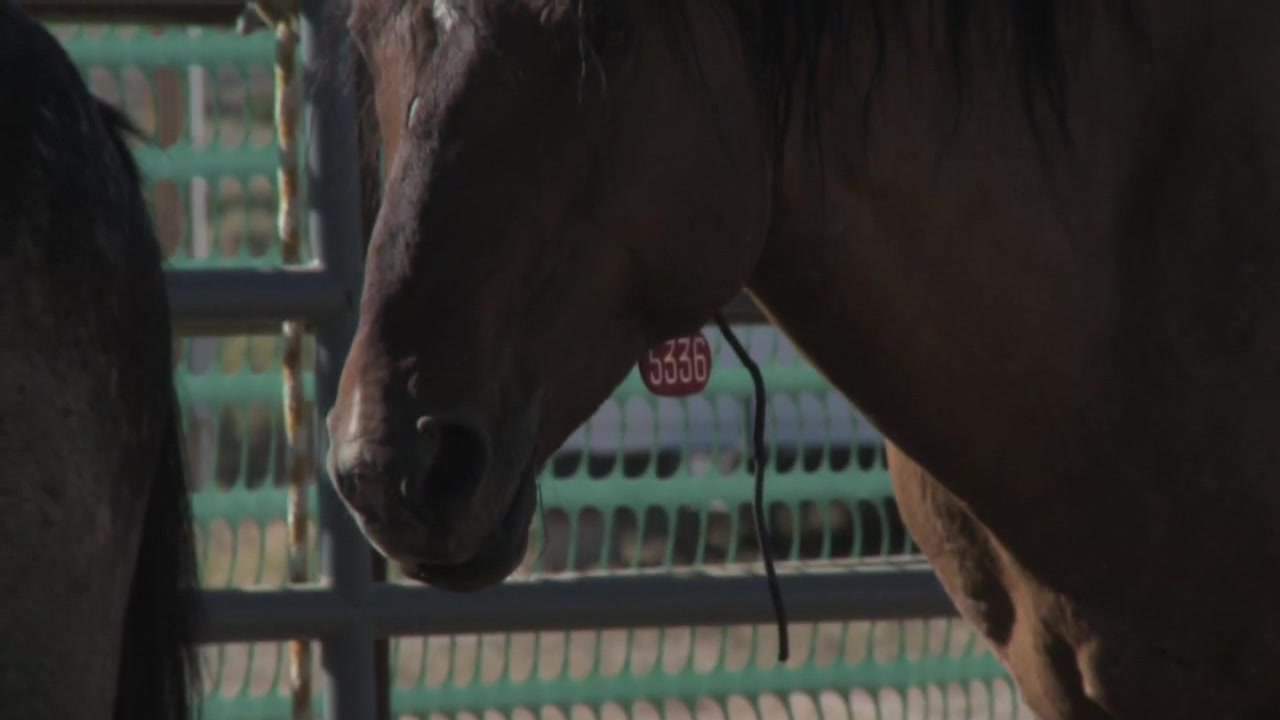horse: (315, 2, 1280, 719), (1, 1, 212, 720)
